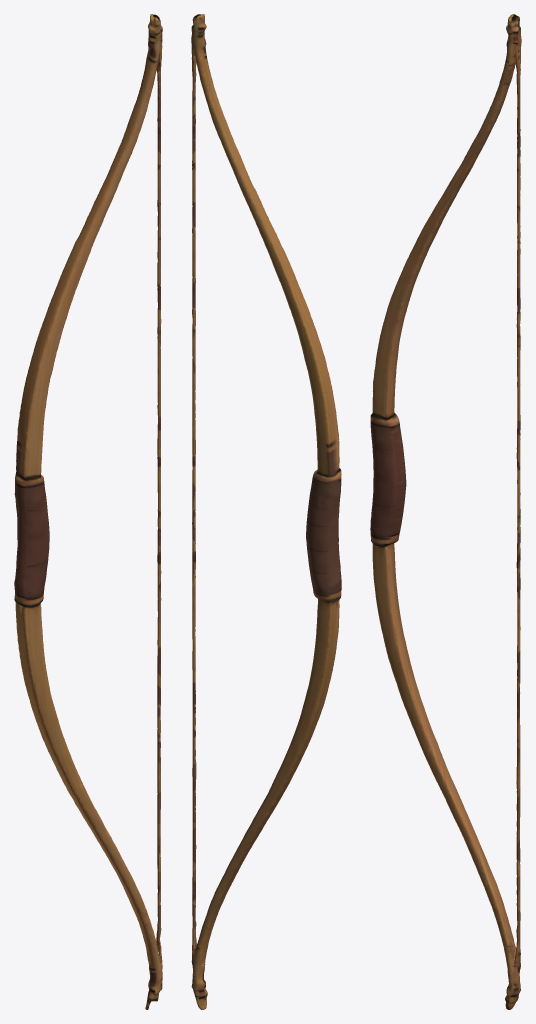
Rendered from Longbow2.glb.
3 views of the same model, side by side, from view 1: azimuth 30°, elevation 25°; view 2: azimuth 150°, elevation 25°; view 3: azimuth 330°, elevation 25° (orthographic).
Bounding box in the file's own units: 0.2945 × 1.91 × 0.0504.
1 material, 1 textured.
